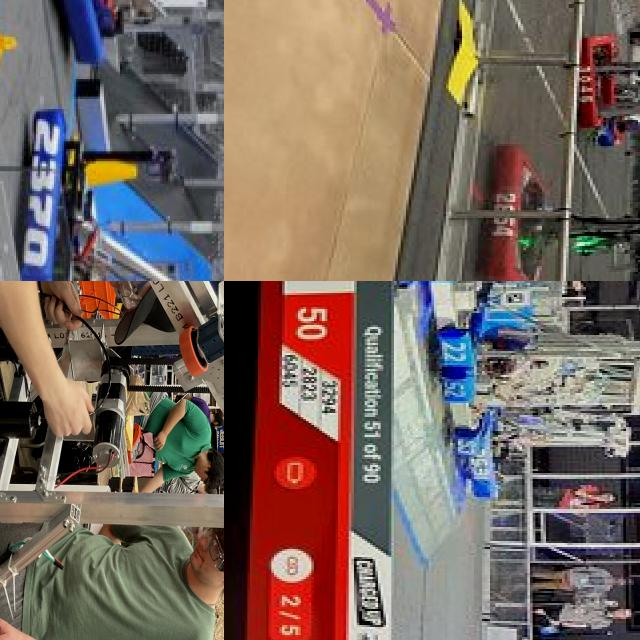FRC-Robots: (0, 281, 224, 640), (2, 101, 224, 281), (437, 321, 640, 456), (457, 426, 569, 518), (27, 0, 139, 81), (566, 30, 640, 126), (406, 281, 556, 322), (589, 119, 640, 163)
